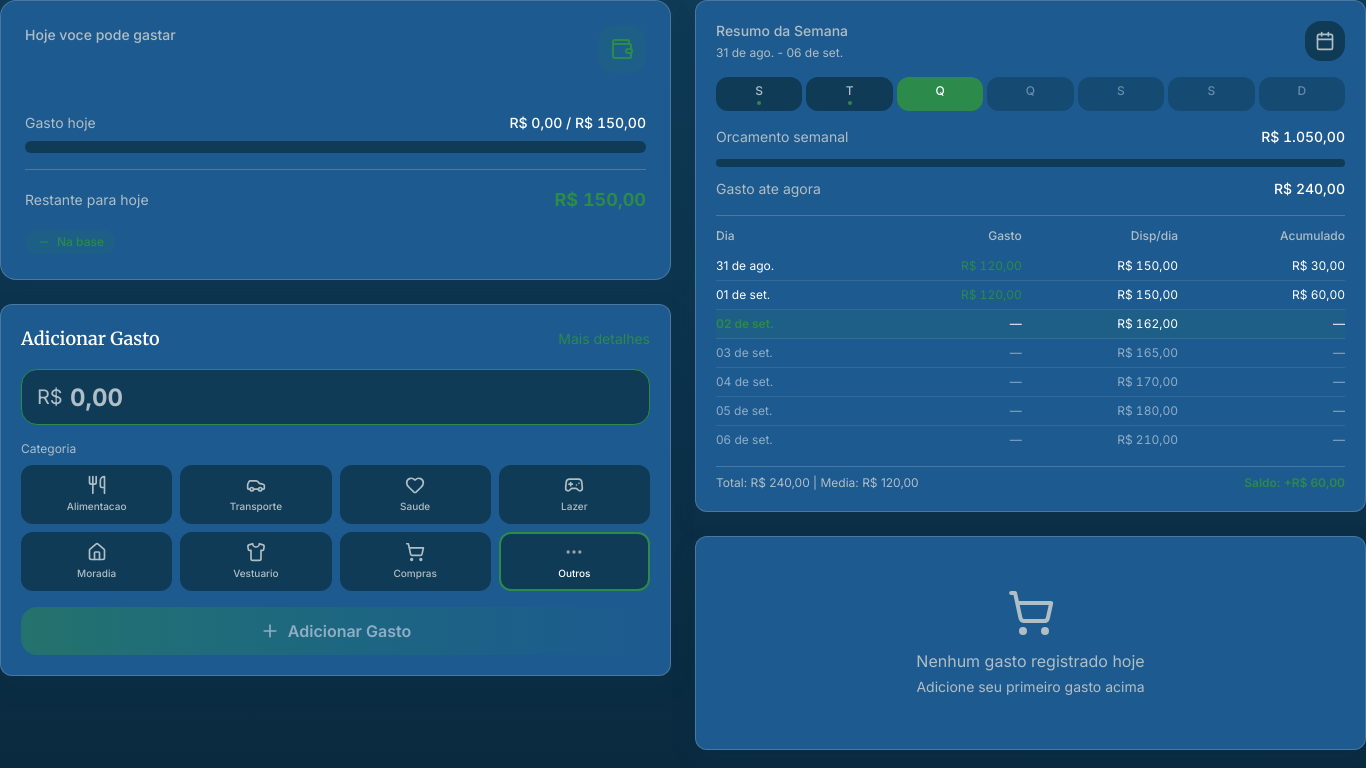
Test case: looking at another day › should show the expenses that came back
Click the 1st button "S": point(759, 94) [716,77,802,111]
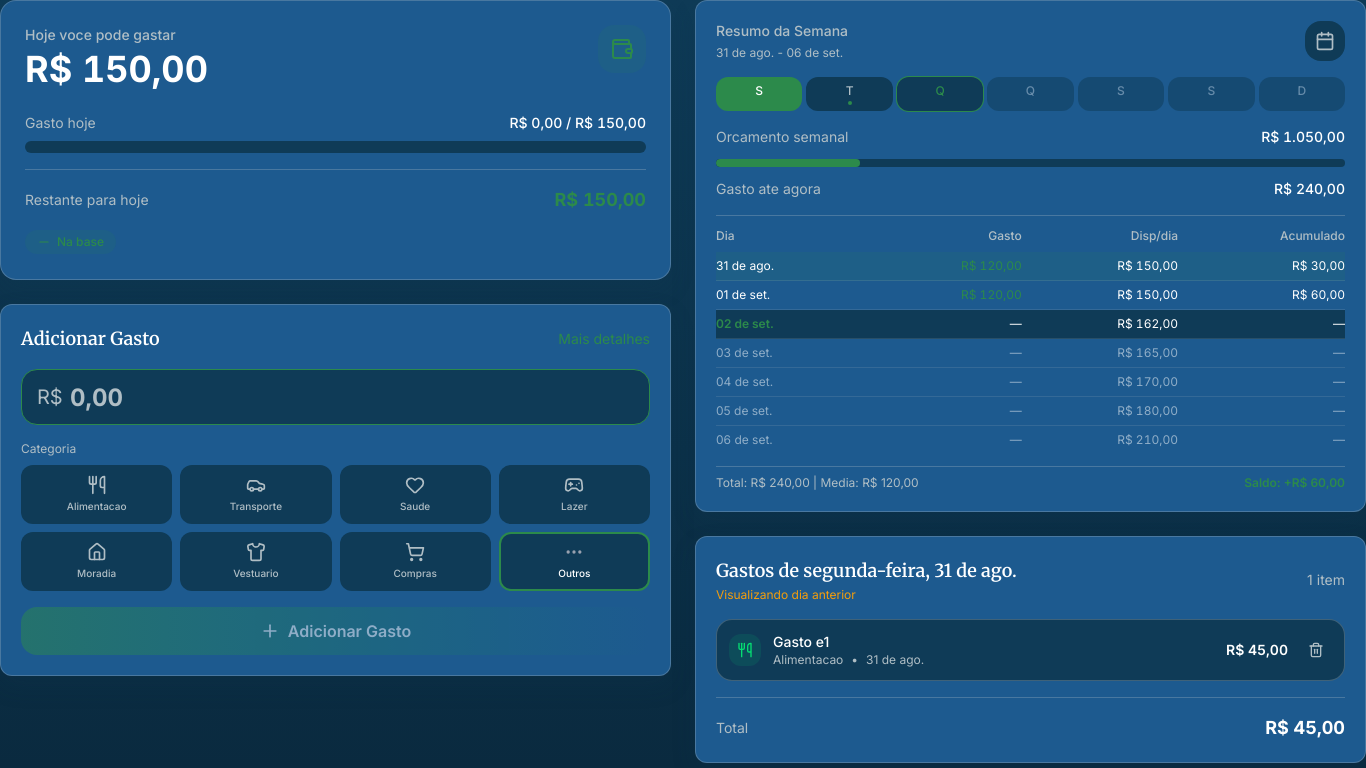
Check: the text "Gasto e1" is shown, box [773,633,829,650]
